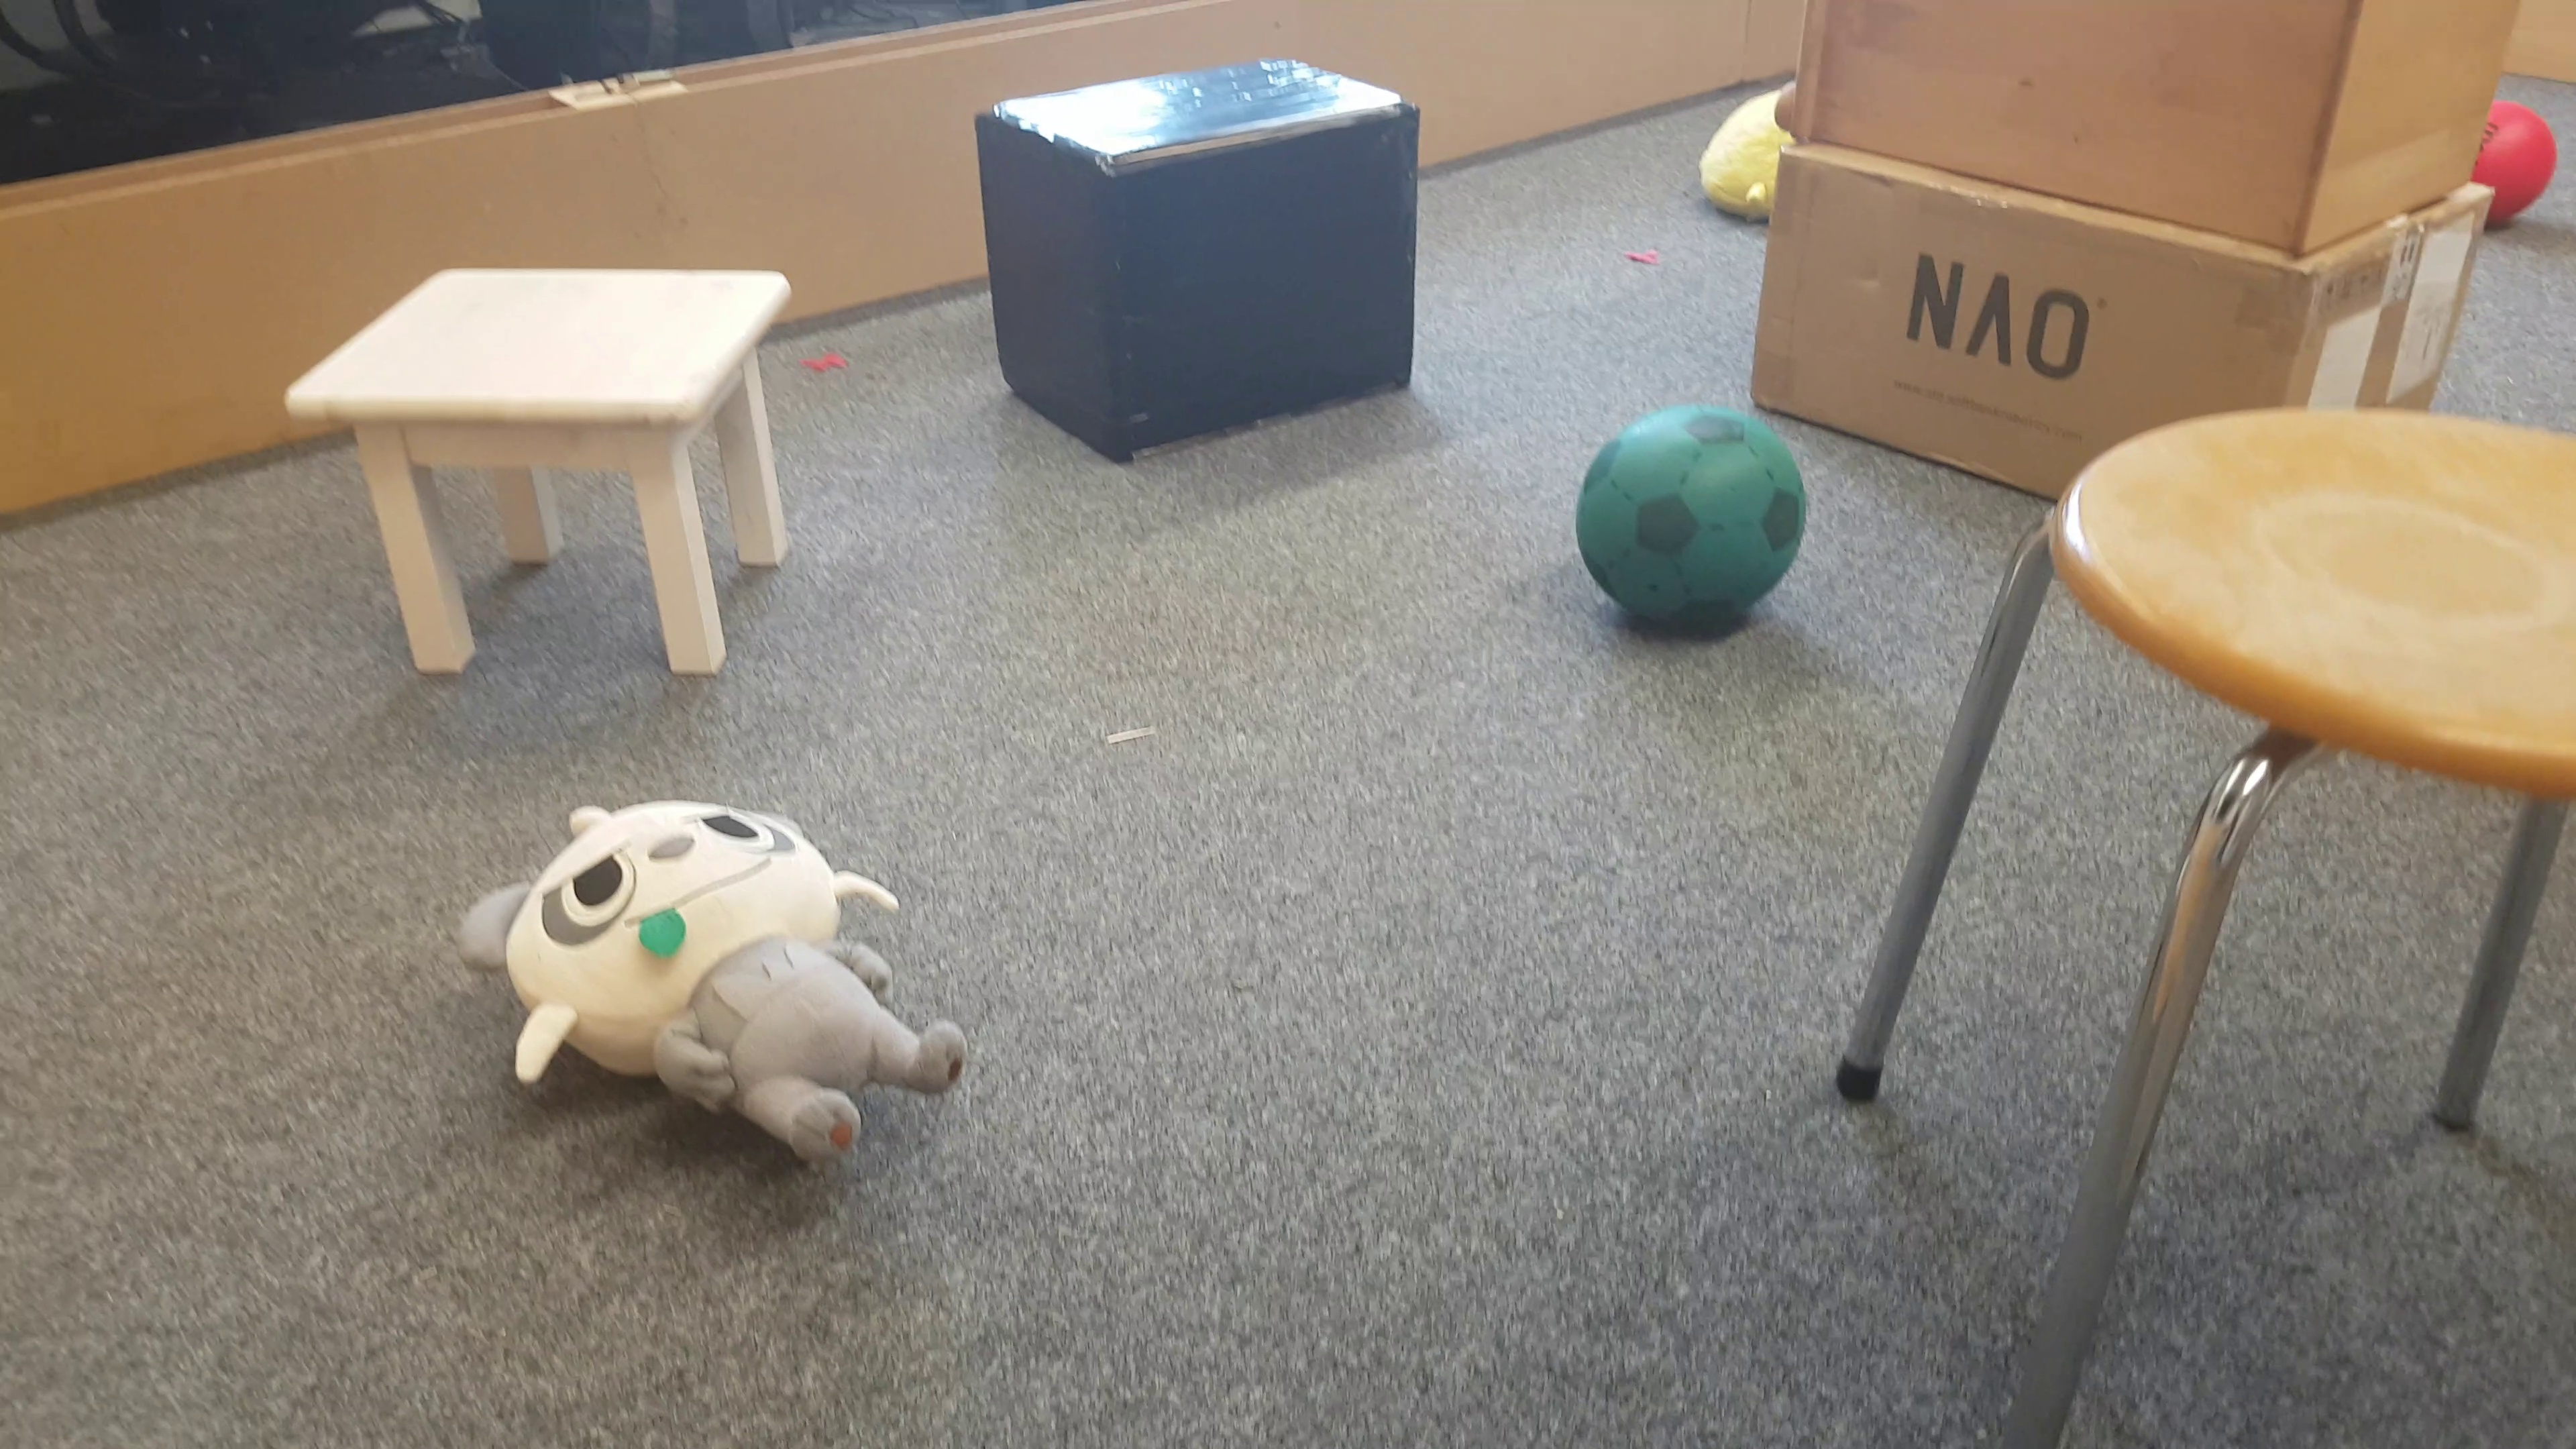grasp: (460, 791, 966, 1177), (1700, 81, 1769, 219)
kick: (1580, 405, 1801, 640), (2502, 108, 2553, 234)
